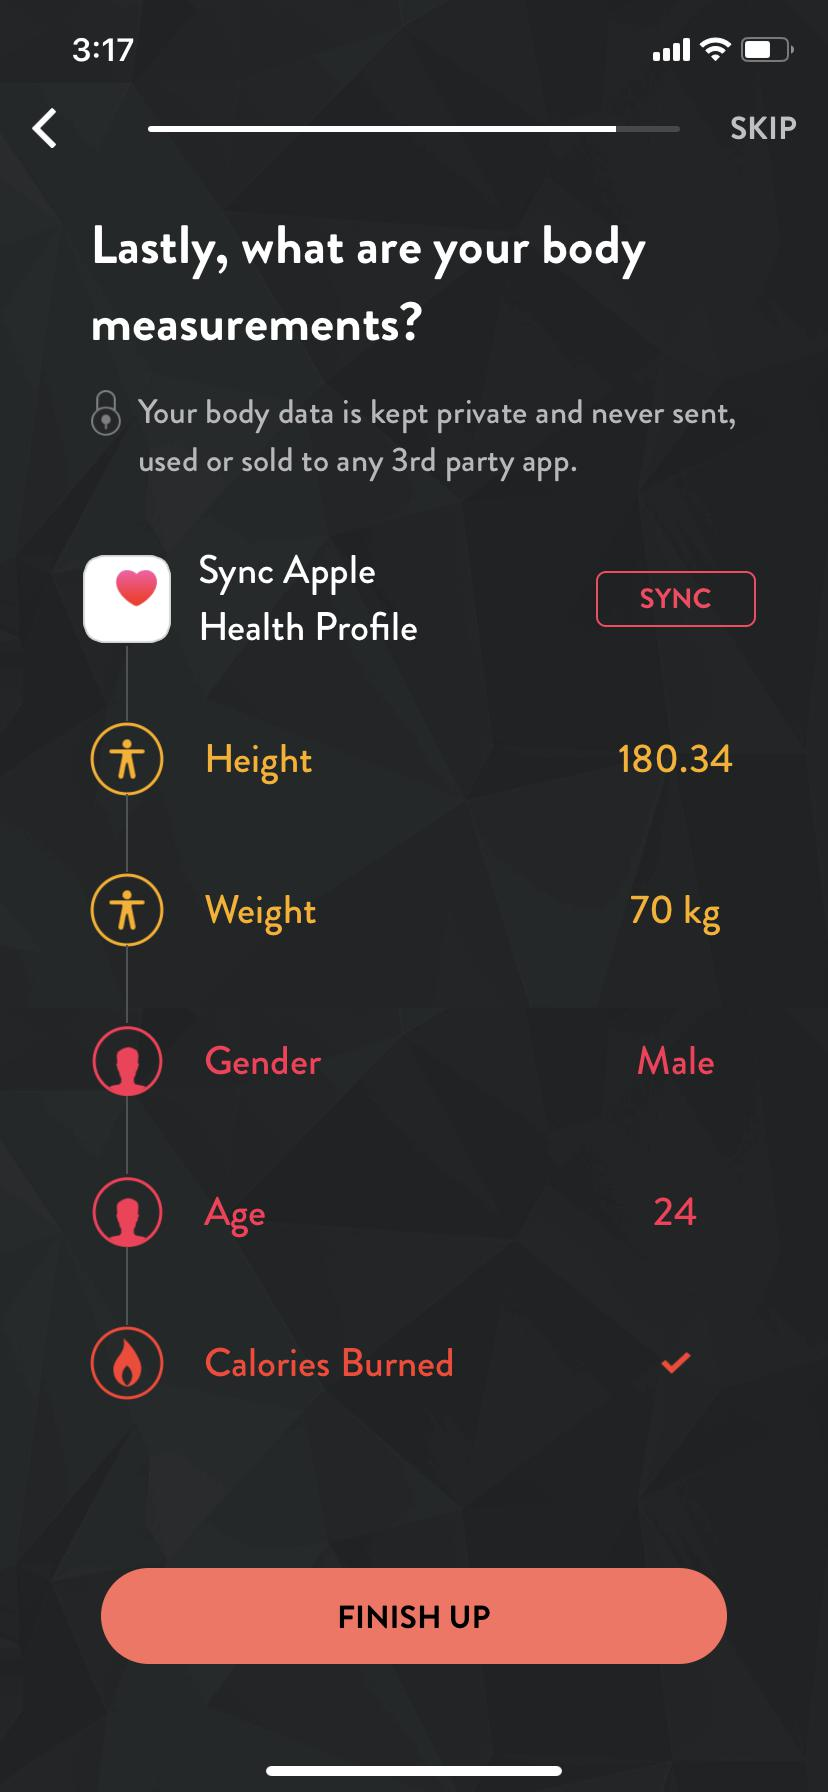Buttons: (91, 1554, 740, 1681), (588, 560, 763, 632), (704, 97, 813, 157)
Progress indicators: (126, 90, 692, 162)
